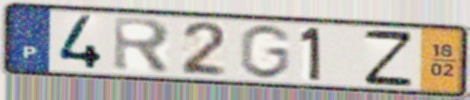1: (296, 26, 323, 83)
2: (179, 20, 229, 77)
4: (56, 13, 107, 73)
G: (236, 22, 294, 81)
R: (111, 14, 174, 77)
Z: (361, 28, 416, 88)
